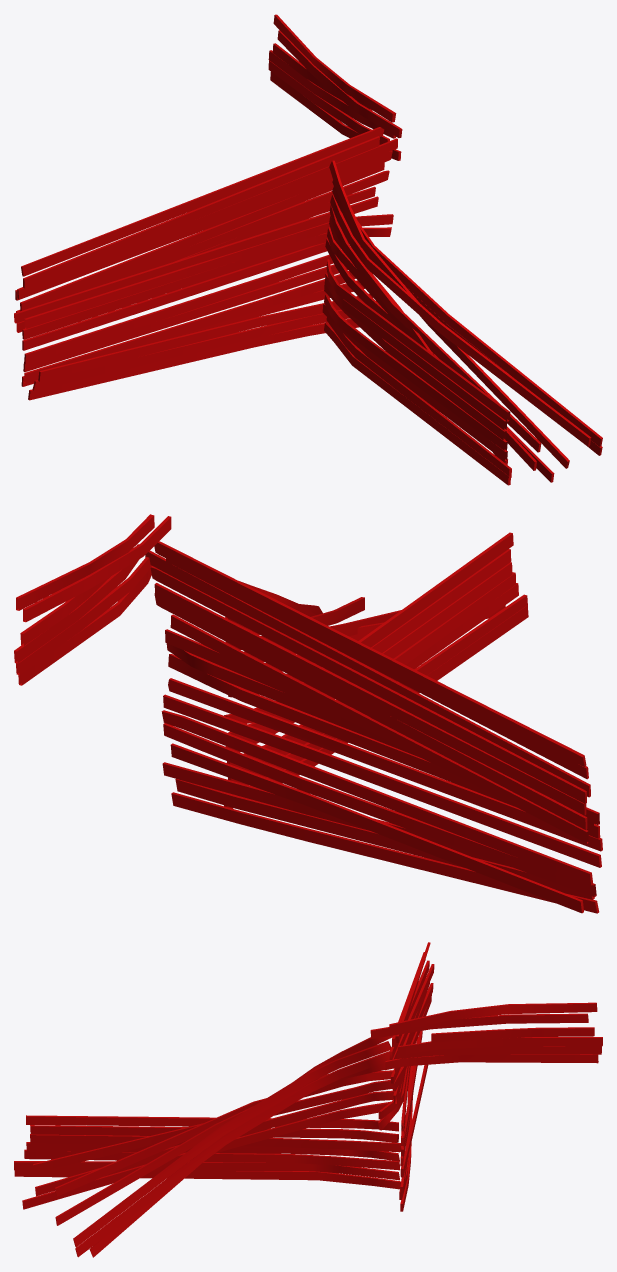
The model's file is MI_SmallLodge_WoodPlank04.fbx.
3 views of the same model, one above another, from view 1: azimuth 30°, elevation 25°; view 2: azimuth 150°, elevation 25°; view 3: azimuth 270°, elevation 25° (orthographic). The views are drawn at different scales.
Visible parts, largest first — view 1: SM_ST_SmallLodge01.mo; view 2: SM_ST_SmallLodge01.mo; view 3: SM_ST_SmallLodge01.mo.
Part boxes in pixels (x1,y1,x2,y2): SM_ST_SmallLodge01.mo: (14,14,602,485); SM_ST_SmallLodge01.mo: (14,514,602,913); SM_ST_SmallLodge01.mo: (14,942,602,1257).
Bounding box in the file's own units: 583 × 795 × 364.
